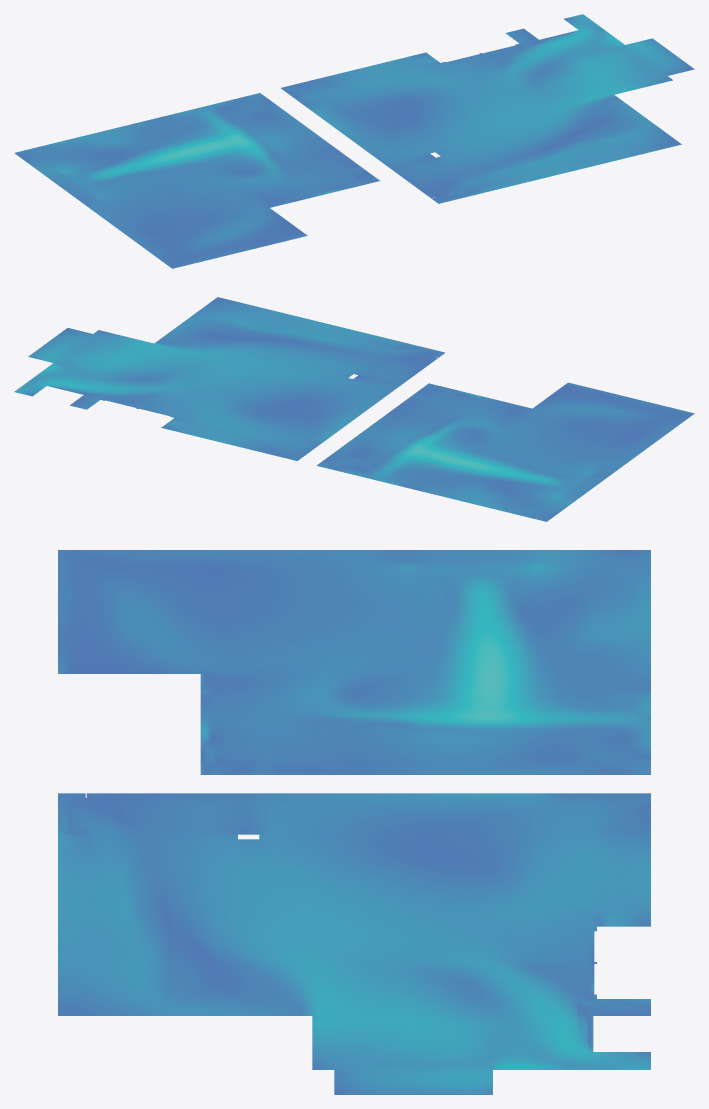
The model's file is A_velocity_z2.2.glb.
3 views of the same model, one above another, from view 1: azimuth 30°, elevation 25°; view 2: azimuth 150°, elevation 25°; view 3: azimuth 270°, elevation 25° (orthographic). The views are drawn at different scales.
Size of the model in its own units: 7.08 by 0 by 3.26.
